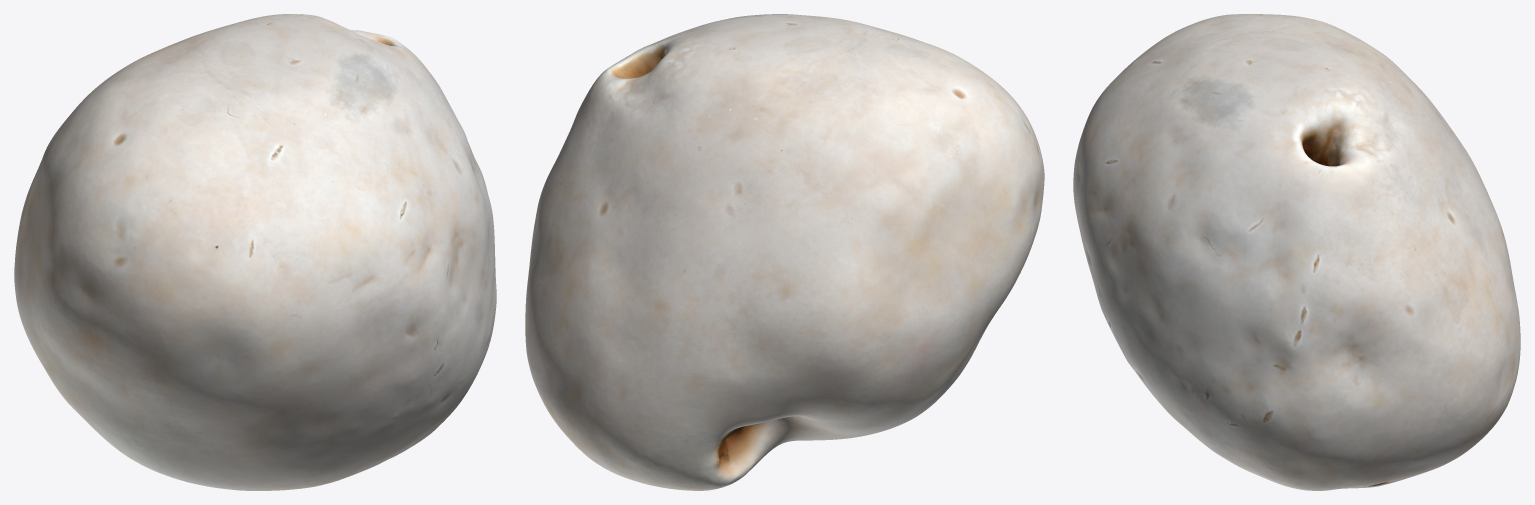
Rendered from MZUR3D-073.glb.
3 views of the same model, side by side, from view 1: azimuth 30°, elevation 25°; view 2: azimuth 150°, elevation 25°; view 3: azimuth 270°, elevation 25° (orthographic). The views are drawn at different scales.
Visible parts, largest first — view 1: MZUR3D-073; view 2: MZUR3D-073; view 3: MZUR3D-073.
Part boxes in pixels (x1,y1,x2,y2): MZUR3D-073: (14,14,496,490); MZUR3D-073: (525,14,1044,490); MZUR3D-073: (1073,14,1520,490).
Size of the model in its own units: 0.4175 by 0.3816 by 0.3999.
Materials: 1 (1 with a texture image).
